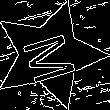M_E: (16, 25, 82, 85)
